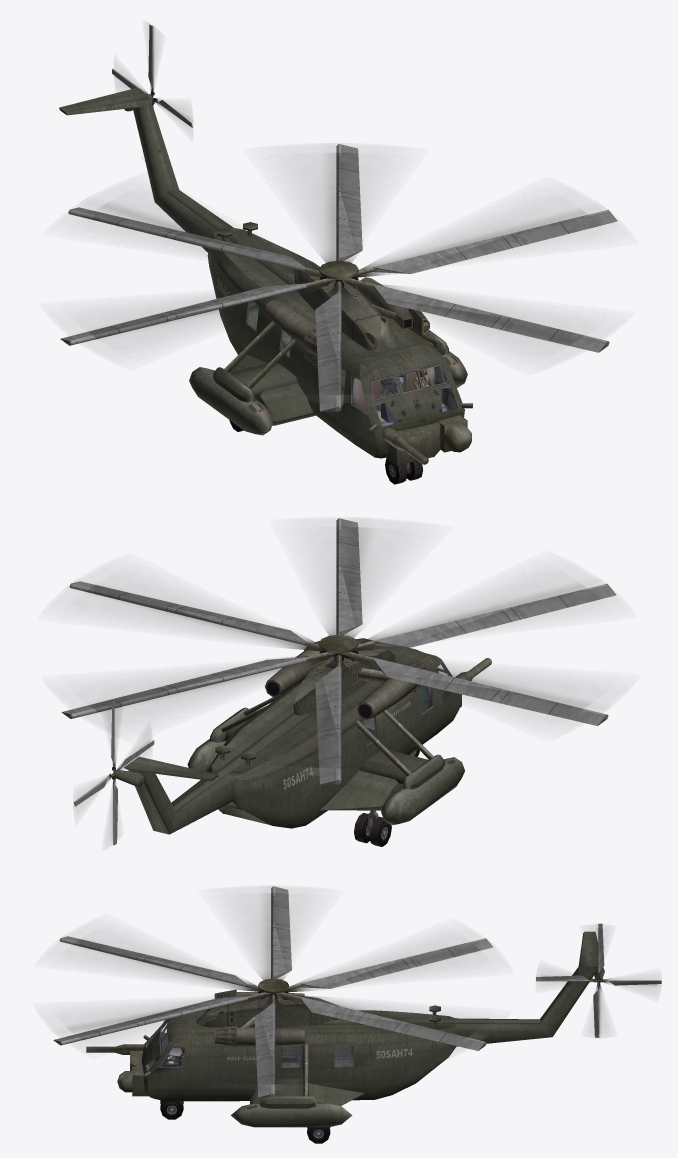
The picture shows the model from 3 angles, top to bottom: view 1: azimuth 30°, elevation 25°; view 2: azimuth 150°, elevation 25°; view 3: azimuth 270°, elevation 25°; orthographic projection. The views are drawn at different scales.
Parts seen in each view (by area): view 1: _MH53; view 2: _MH53; view 3: _MH53.
Part boxes in pixels (x1,y1,x2,y2): _MH53: (59, 24, 617, 484); _MH53: (61, 518, 616, 846); _MH53: (52, 886, 661, 1143).
Size of the model in its own units: 17.37 by 7.76 by 22.99.
Materials: 10 (10 with a texture image).
